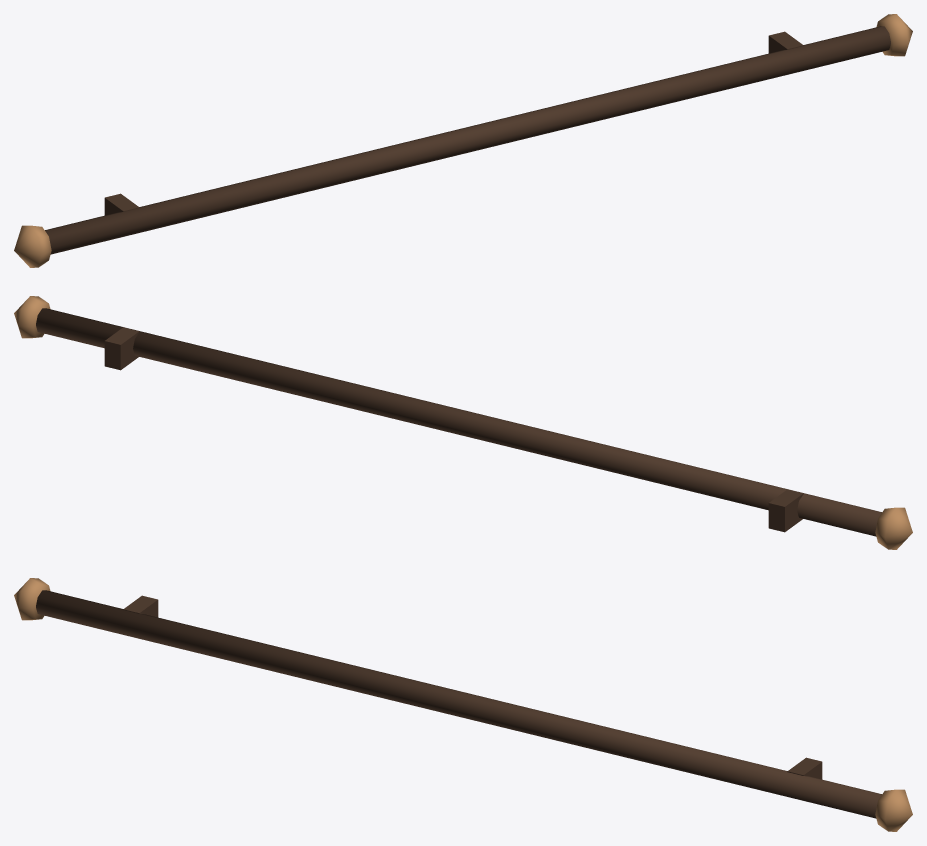
The model's file is tapestry.glb.
3 renders of one model, top to bottom at view 1: azimuth 30°, elevation 25°; view 2: azimuth 150°, elevation 25°; view 3: azimuth 330°, elevation 25°, orthographic.
Visible parts, largest first — view 1: tapestry; view 2: tapestry; view 3: tapestry.
Part boxes in pixels (x1,y1,x2,y2): tapestry: [14, 14, 912, 267]; tapestry: [14, 296, 912, 549]; tapestry: [14, 578, 912, 831].
Size of the model in its own units: 1.11 by 0.05 by 0.065.
